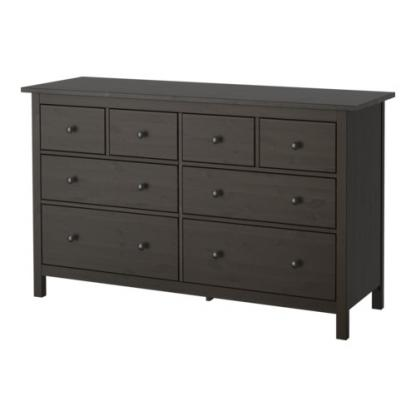Cabinet: (16, 70, 397, 344)
